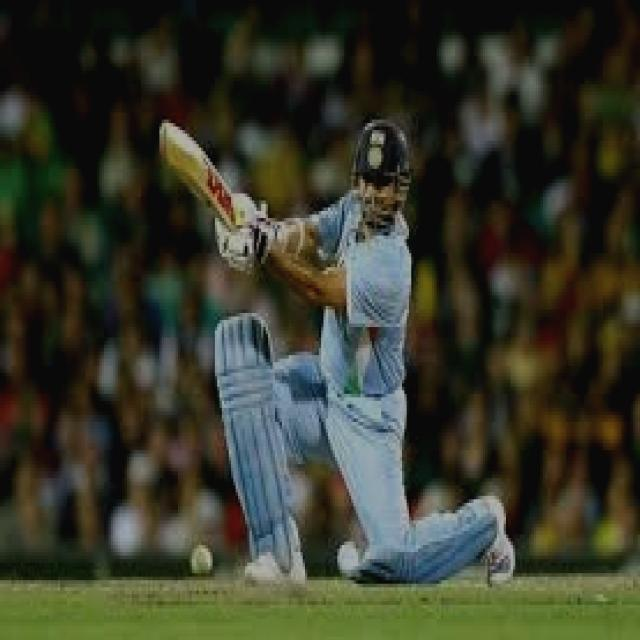toe: (148, 106, 199, 184)
